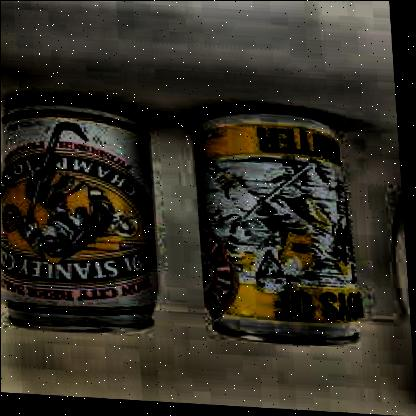Can: (188, 96, 367, 354), (0, 95, 176, 347)
